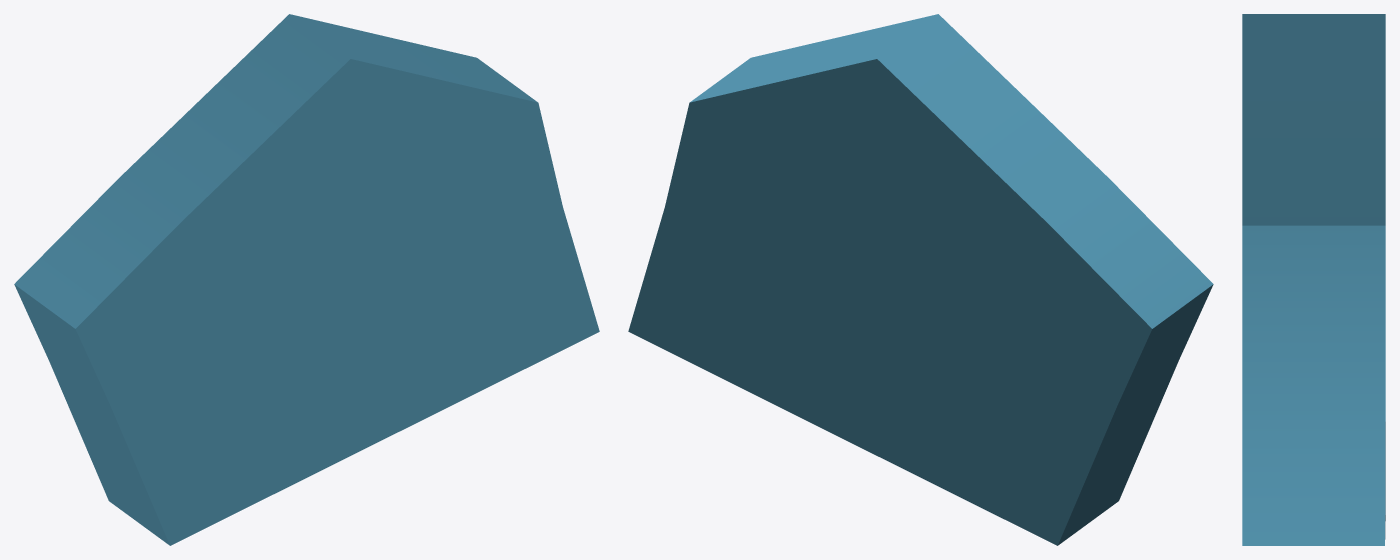
Rendered from NexusA_Trigger_27.fbx.
3 views of the same model, side by side, from view 1: azimuth 30°, elevation 25°; view 2: azimuth 150°, elevation 25°; view 3: azimuth 270°, elevation 25° (orthographic). The views are drawn at different scales.
Visible parts, largest first — view 1: pCube26; view 2: pCube26; view 3: pCube26.
Part boxes in pixels (x1,y1,x2,y2): pCube26: [14, 14, 599, 545]; pCube26: [628, 14, 1213, 545]; pCube26: [1242, 14, 1385, 545].
Size of the model in its own units: 47.09 by 38.02 by 9.54.
